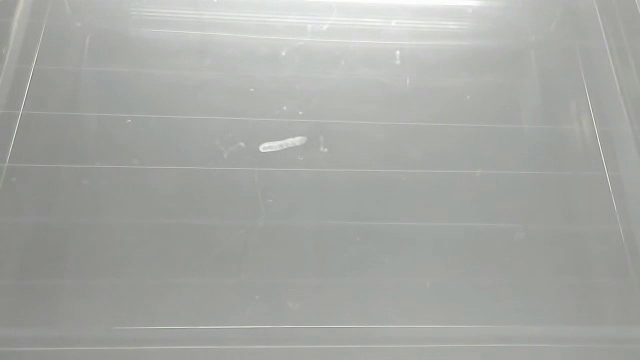alpha: (257, 134, 307, 156)
